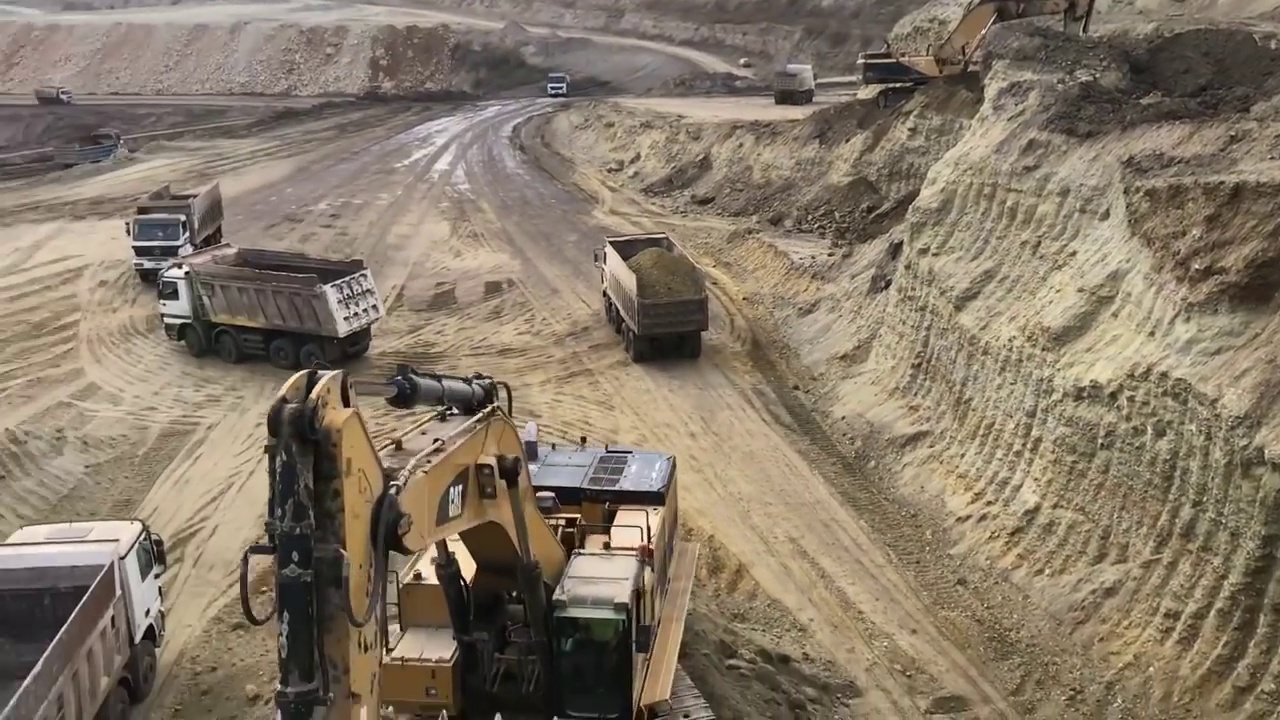excavator: (241, 361, 703, 720)
truck: (9, 522, 170, 720), (156, 251, 373, 367), (597, 231, 710, 366), (123, 175, 218, 278), (62, 133, 131, 163), (776, 62, 818, 99), (36, 80, 70, 104), (549, 72, 566, 99)
